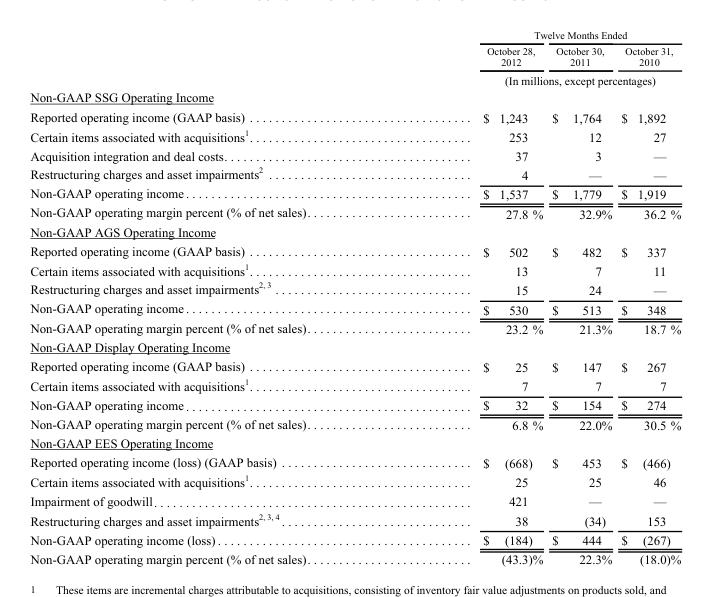table: (29, 28, 680, 565)
table column: (29, 28, 395, 565), (395, 28, 546, 565), (546, 28, 615, 565), (615, 28, 680, 565)
table column header: (29, 28, 680, 88)
table projected row header: (29, 337, 680, 356), (29, 88, 680, 106), (29, 222, 680, 240), (29, 433, 680, 451)
table row: (29, 42, 680, 70), (29, 106, 680, 126), (29, 126, 680, 146), (29, 163, 680, 183), (29, 183, 680, 203), (29, 240, 680, 260), (29, 279, 680, 299), (29, 375, 680, 395), (29, 451, 680, 471), (29, 471, 680, 491), (29, 509, 680, 529), (29, 529, 680, 549), (29, 203, 680, 222), (29, 260, 680, 279), (29, 299, 680, 318), (29, 318, 680, 337), (29, 337, 680, 356), (29, 356, 680, 375), (29, 395, 680, 414), (29, 414, 680, 433), (29, 70, 680, 88), (29, 88, 680, 106), (29, 222, 680, 240), (29, 433, 680, 451), (29, 491, 680, 509), (29, 146, 680, 163), (29, 549, 680, 565), (29, 28, 680, 42)
table spanning cell: (395, 70, 680, 88), (395, 28, 680, 42)
